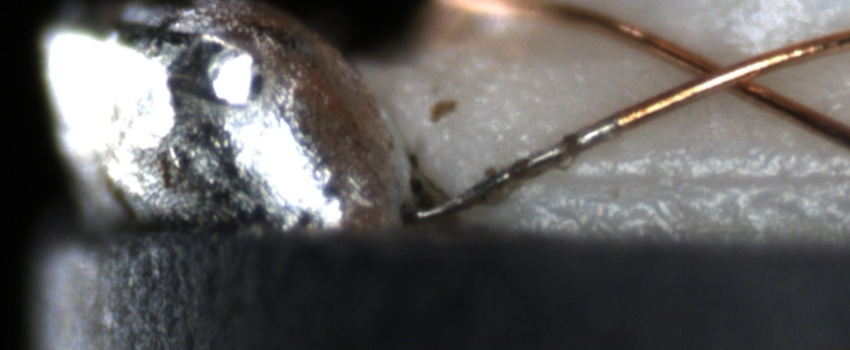CL: (663, 45, 784, 103)
DL: (525, 149, 850, 207)
TS: (414, 116, 618, 220)
TTCW: (419, 94, 670, 227)
